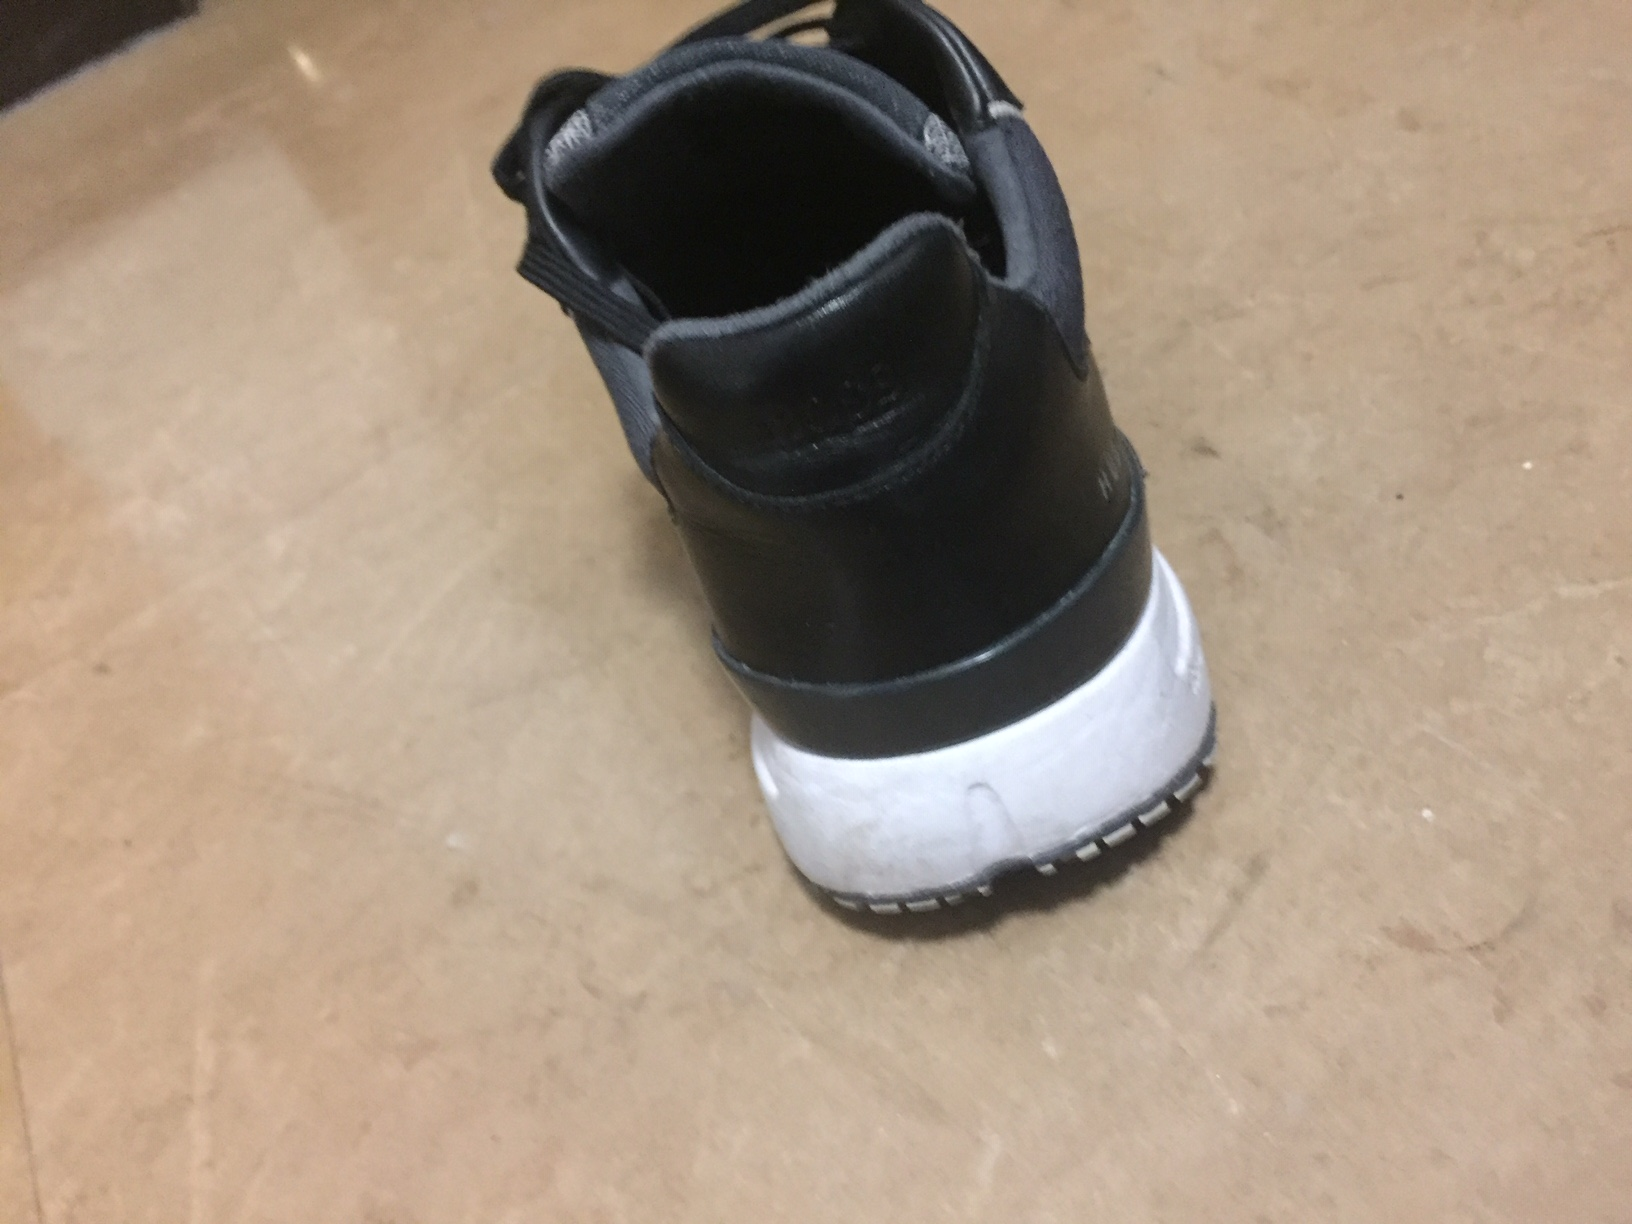car: (493, 3, 1227, 936)
